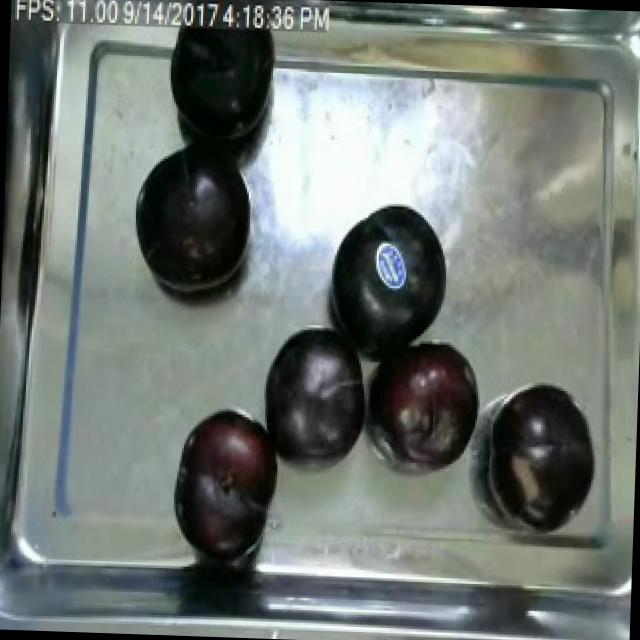Fruit: (125, 125, 262, 298), (321, 193, 454, 349), (166, 402, 285, 562), (253, 318, 376, 466), (360, 332, 488, 469), (483, 376, 602, 516), (160, 17, 284, 150)
